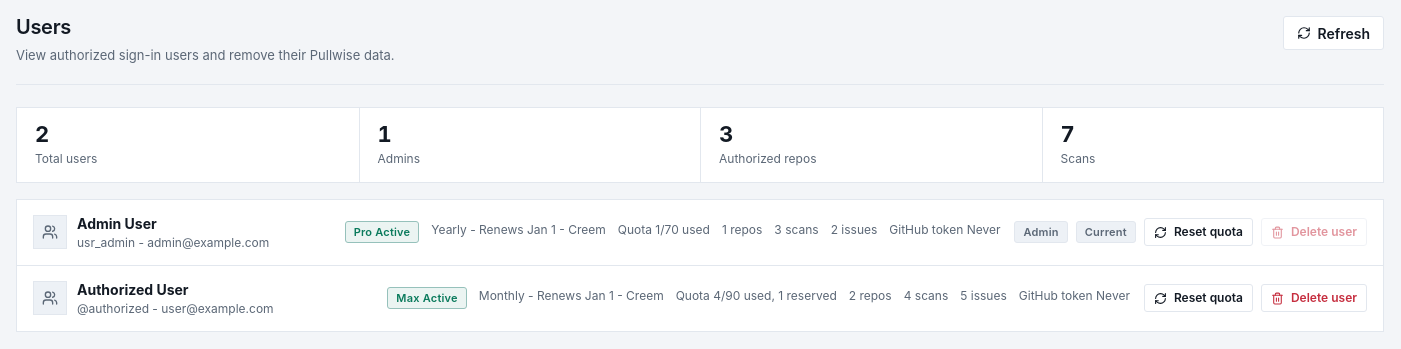
Test case: UsersScreen › does not let an older user refresh resurrect a successfully deleted user
Expected: the text "Authorized User" is shown, [77, 281, 188, 298]
Click the button "Refresh" at (1333, 33), box [1282, 16, 1384, 50]
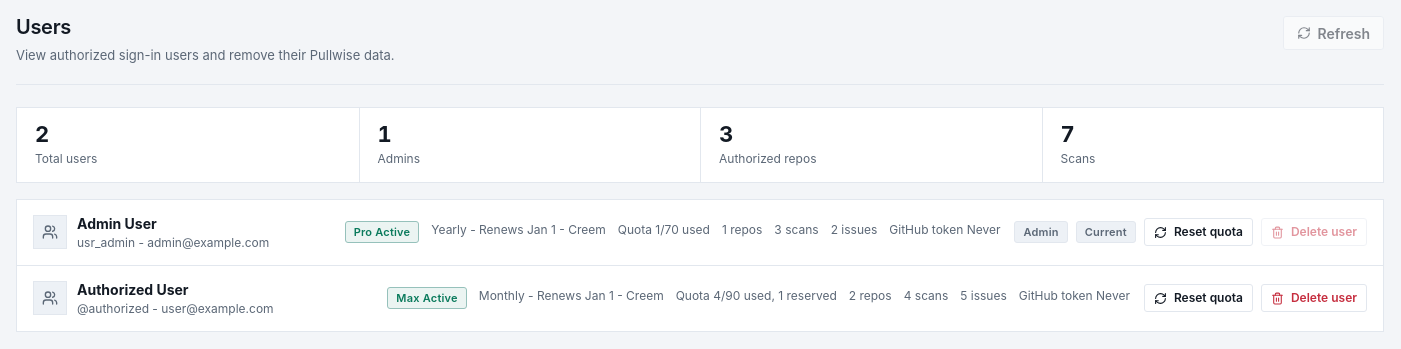
Click the button "Delete user" in the row of "Quota 4/90 used, 1 reserved" at (1314, 298), box [1261, 284, 1367, 312]
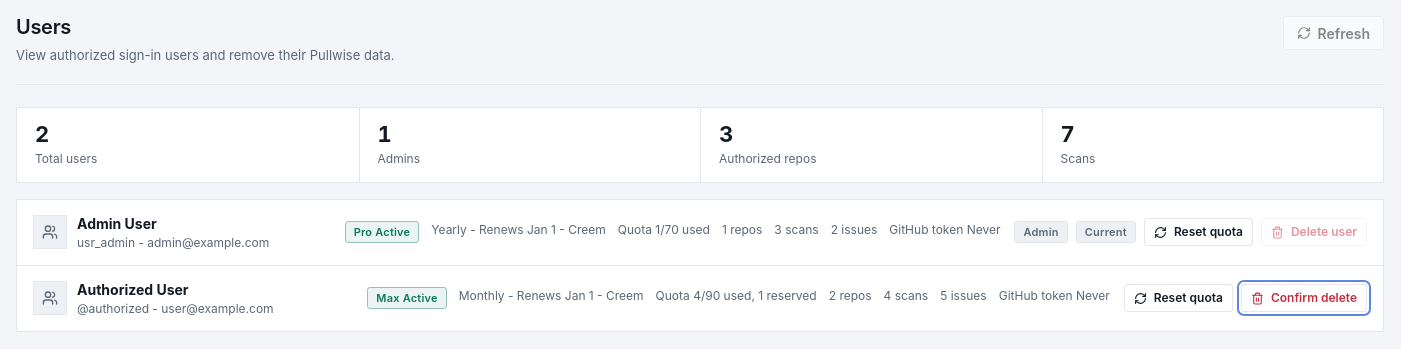
Click the button "Confirm delete" at (1304, 298), box [1241, 284, 1367, 312]
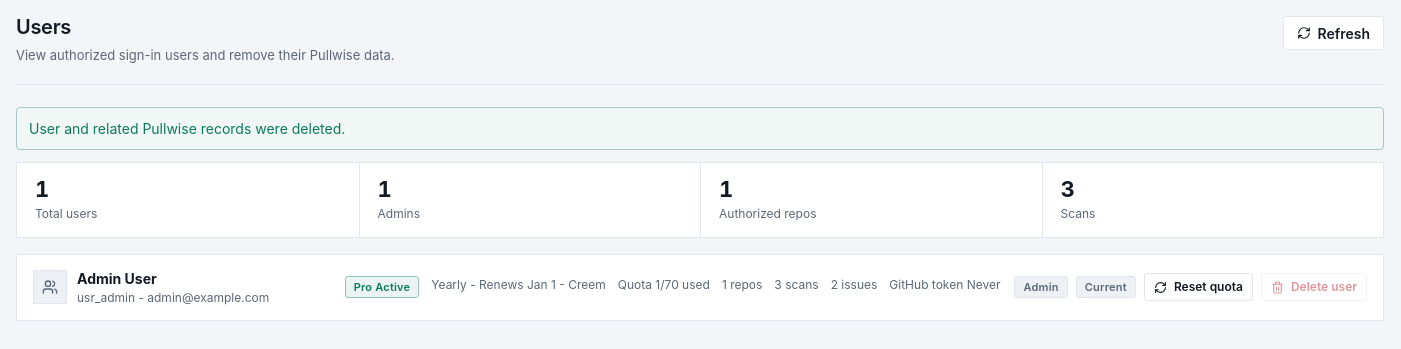
Now the text "Authorized User" is gone
